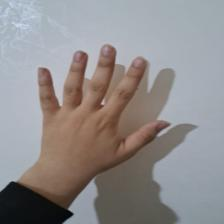five: (32, 41, 173, 171)
